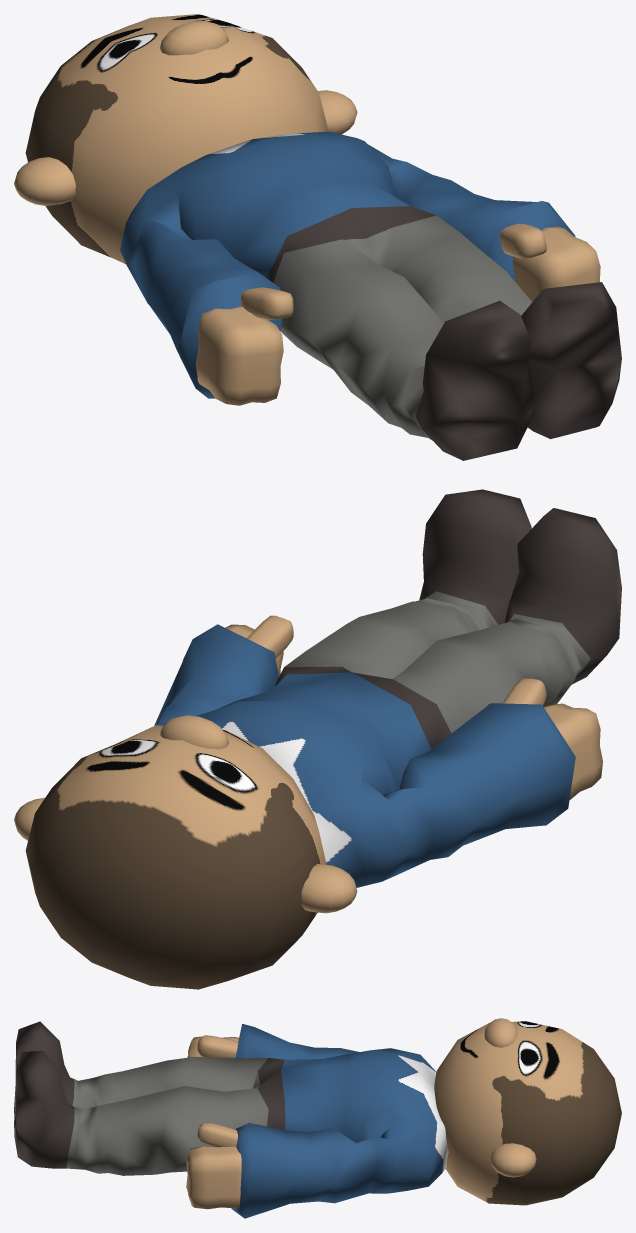
The model's file is dadDoll.fbx.
3 renders of one model, top to bottom at view 1: azimuth 30°, elevation 25°; view 2: azimuth 150°, elevation 25°; view 3: azimuth 270°, elevation 25°, orthographic. The views are drawn at different scales.
Visible parts, largest first — view 1: dadDoll; view 2: dadDoll; view 3: dadDoll.
Boxes of the visible parts, <box> form: dadDoll: <box>14,14,621,460</box>; dadDoll: <box>14,489,621,989</box>; dadDoll: <box>14,1018,621,1218</box>.
Size of the model in its own units: 262 by 158 by 500.
Materials: 1 (1 with a texture image).
